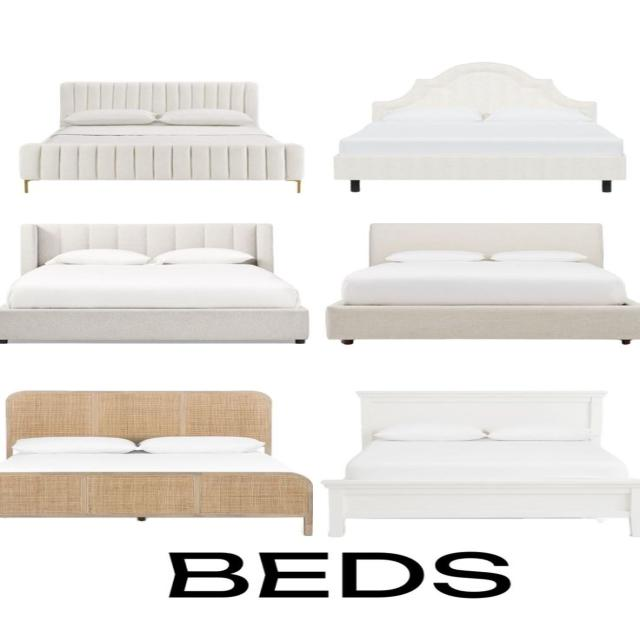obstacle: (321, 390, 638, 538), (0, 390, 313, 536), (324, 222, 638, 345), (332, 61, 626, 192), (0, 222, 309, 344), (19, 80, 304, 193)
